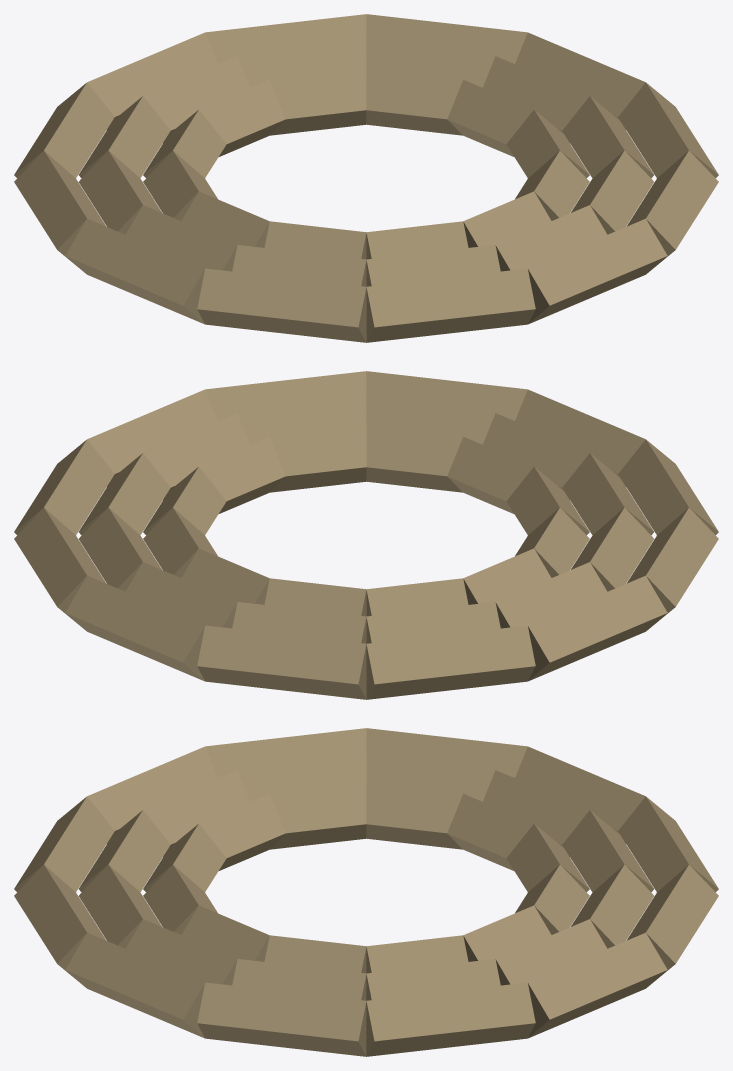
Rendered from rope_coil.glb.
The picture shows the model from 3 angles, top to bottom: view 1: azimuth 30°, elevation 25°; view 2: azimuth 150°, elevation 25°; view 3: azimuth 270°, elevation 25°; orthographic projection.
Visible parts, largest first — view 1: coiled rope.031, coiled rope.032, coiled rope.030, coiled rope.033, coiled rope.001, coiled rope.002, coiled rope.029, coiled rope.034, coiled rope.024, coiled rope.027, coiled rope.025, coiled rope.026 (+24 smaller); view 2: coiled rope.028, coiled rope.027, coiled rope.026, coiled rope.029, coiled rope.009, coiled rope.010, coiled rope.025, coiled rope.030, coiled rope.032, coiled rope.035, coiled rope.033, coiled rope.034 (+24 smaller); view 3: coiled rope.035, coiled rope.024, coiled rope.025, coiled rope.034, coiled rope.005, coiled rope.006, coiled rope.026, coiled rope.033, coiled rope.028, coiled rope.031, coiled rope.029, coiled rope.030 (+24 smaller).
Part boxes in pixels (box(x1,y1,x2,y2)): coiled rope.031: box(197, 268, 366, 342); coiled rope.032: box(366, 268, 535, 342); coiled rope.030: box(65, 218, 204, 324); coiled rope.033: box(528, 218, 667, 324); coiled rope.001: box(366, 68, 462, 135); coiled rope.002: box(270, 68, 366, 135); coiled rope.029: box(14, 151, 106, 272); coiled rope.034: box(626, 151, 718, 272); coiled rope.024: box(515, 32, 645, 129); coiled rope.027: box(87, 32, 217, 129); coiled rope.025: box(366, 14, 527, 63); coiled rope.026: box(205, 14, 366, 63); coiled rope.028: box(366, 625, 535, 699); coiled rope.027: box(197, 625, 366, 699); coiled rope.026: box(65, 575, 204, 681); coiled rope.029: box(528, 575, 667, 681); coiled rope.009: box(366, 425, 462, 492); coiled rope.010: box(270, 425, 366, 492); coiled rope.025: box(14, 508, 106, 629); coiled rope.030: box(626, 508, 718, 629); coiled rope.032: box(515, 389, 645, 486); coiled rope.035: box(87, 389, 217, 486); coiled rope.033: box(366, 371, 527, 420); coiled rope.034: box(205, 371, 366, 420); coiled rope.035: box(197, 982, 366, 1056); coiled rope.024: box(366, 982, 535, 1056); coiled rope.025: box(528, 932, 667, 1038); coiled rope.034: box(65, 932, 204, 1038); coiled rope.005: box(366, 782, 462, 849); coiled rope.006: box(270, 782, 366, 849); coiled rope.026: box(626, 865, 718, 986); coiled rope.033: box(14, 865, 106, 986); coiled rope.028: box(515, 746, 645, 843); coiled rope.031: box(87, 746, 217, 843); coiled rope.029: box(366, 728, 527, 777); coiled rope.030: box(205, 728, 366, 777).
Bounding box in the file's own units: 0.2732 × 0.024 × 0.2732.
